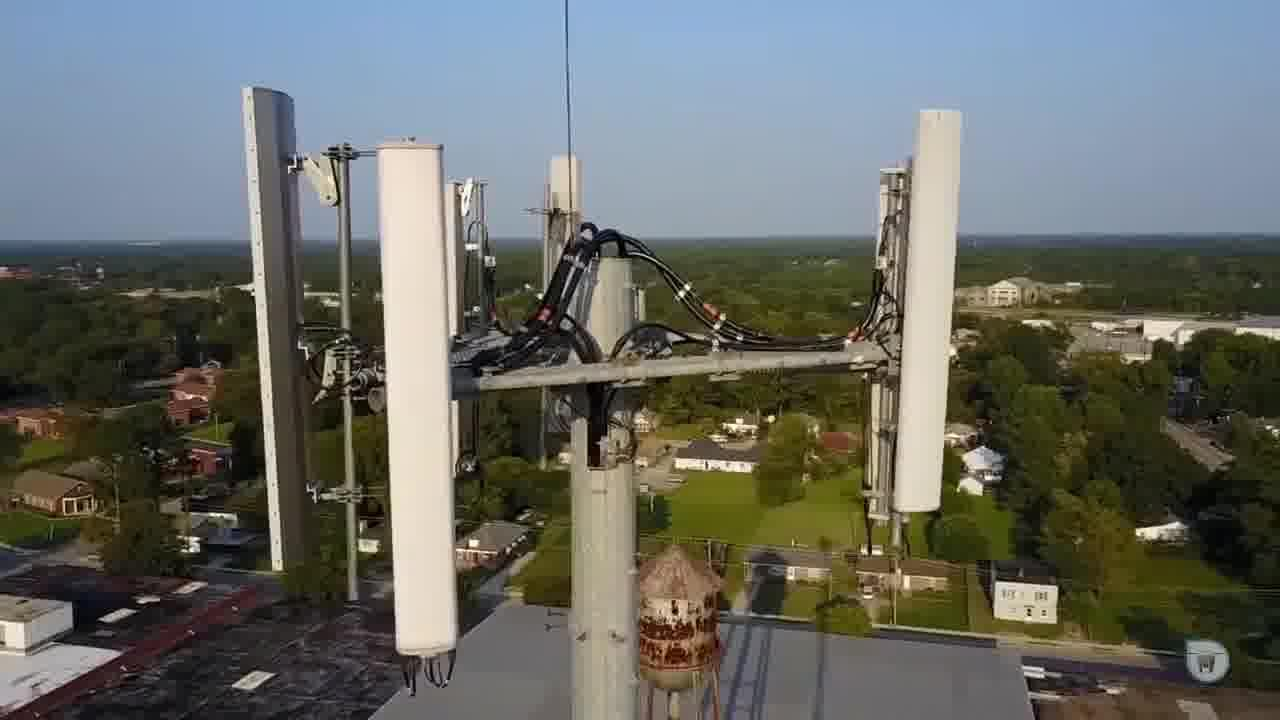antenna: (373, 137, 468, 663), (231, 81, 323, 582), (889, 97, 976, 524), (537, 141, 592, 412), (875, 153, 902, 532)
